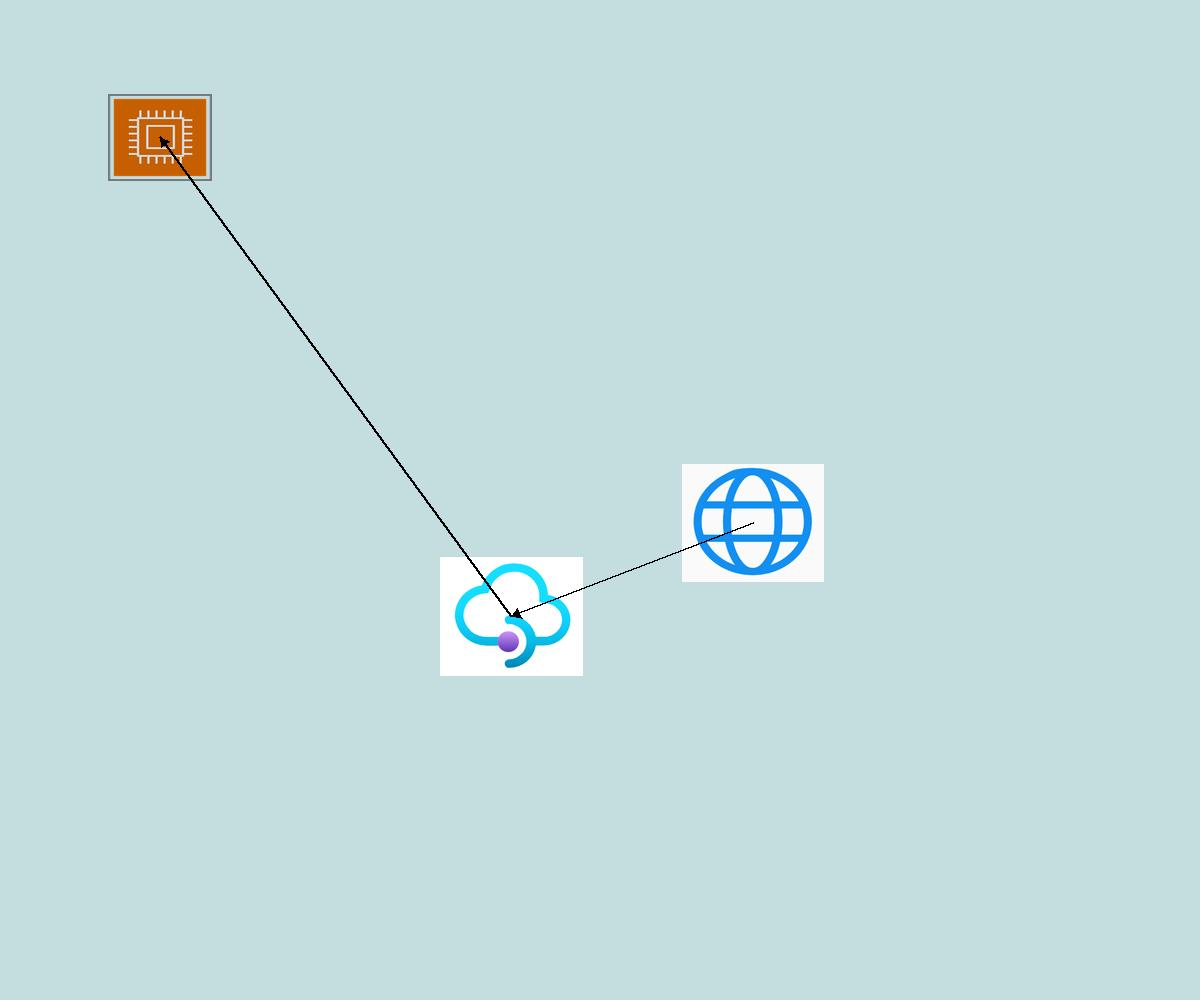AWS-Category_Compute: (108, 94, 212, 181)
Azure_api_gateway: (440, 557, 583, 676)
Azure_http: (682, 464, 824, 582)
